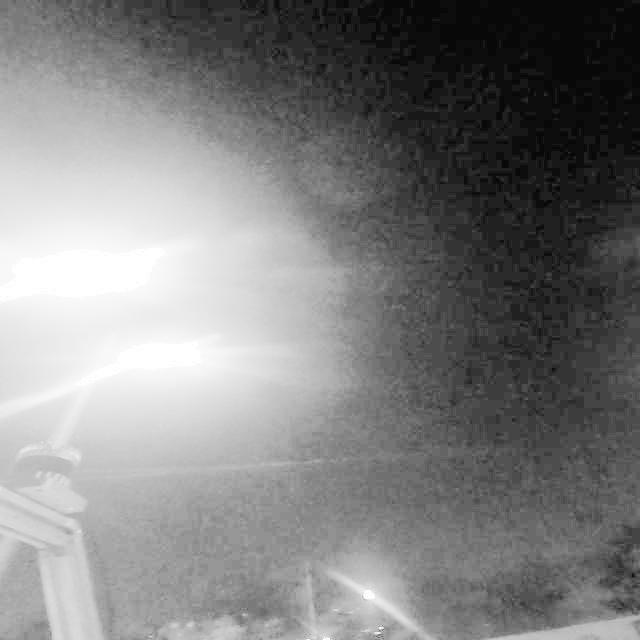Light: (18, 229, 164, 307), (122, 333, 217, 376)
